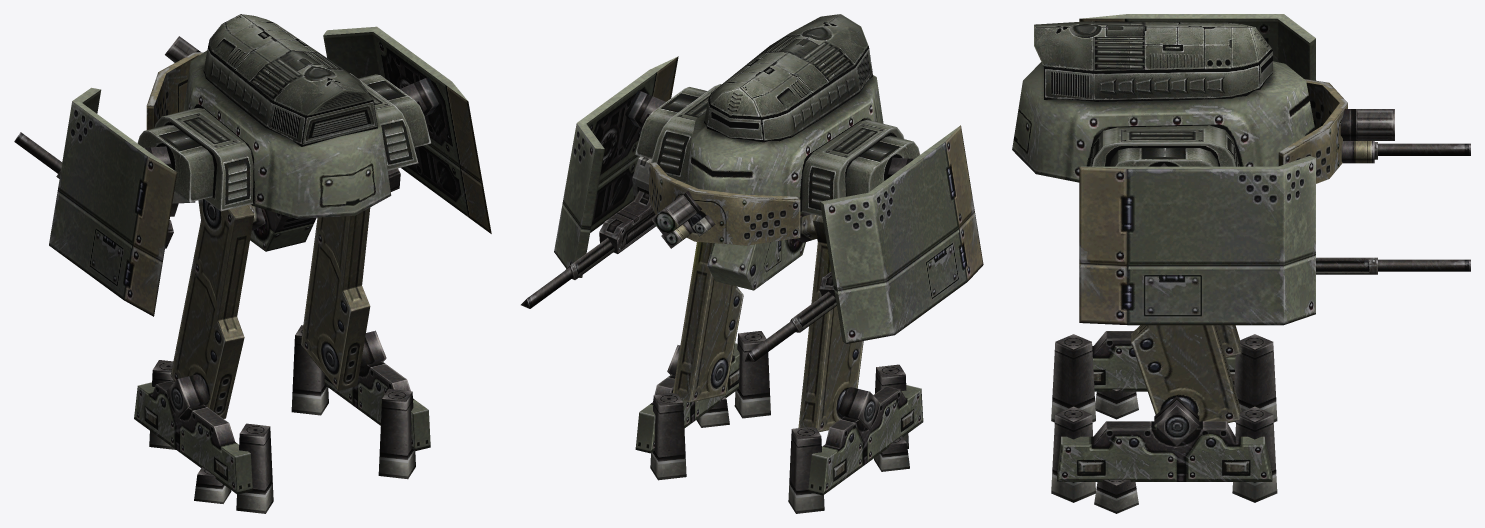
File: cameleerT1.glb
The picture shows the model from 3 angles, left to right: view 1: azimuth 30°, elevation 25°; view 2: azimuth 150°, elevation 25°; view 3: azimuth 270°, elevation 25°; orthographic projection. The views are drawn at different scales.
Parts seen in each view (by area): view 1: Spine, Box03, L Foot, L Calf, R Calf, R Foot, Pelvis; view 2: Spine, Box03, L Foot, R Foot, R Calf, L Calf, Pelvis; view 3: Spine, Box03, R Foot, L Foot, R Calf, L Calf.
Part boxes in pixels (x1=…): Spine: x1=14, y1=26, x2=491, y2=316; Box03: x1=137, y1=14, x2=430, y2=211; L Foot: x1=134, y1=360, x2=273, y2=513; L Calf: x1=170, y1=199, x2=254, y2=418; R Calf: x1=301, y1=207, x2=370, y2=390; R Foot: x1=291, y1=325, x2=430, y2=479; Pelvis: x1=250, y1=208, x2=316, y2=251; Spine: x1=521, y1=56, x2=983, y2=361; Box03: x1=635, y1=14, x2=920, y2=216; L Foot: x1=788, y1=364, x2=923, y2=513; R Foot: x1=635, y1=331, x2=770, y2=480; R Calf: x1=673, y1=242, x2=743, y2=402; L Calf: x1=798, y1=215, x2=863, y2=432; Pelvis: x1=707, y1=212, x2=810, y2=290; Spine: x1=1012, y1=14, x2=1470, y2=325; Box03: x1=1034, y1=21, x2=1272, y2=166; R Foot: x1=1051, y1=396, x2=1277, y2=513; L Foot: x1=1051, y1=331, x2=1277, y2=422; R Calf: x1=1131, y1=325, x2=1241, y2=423; L Calf: x1=1216, y1=325, x2=1241, y2=357.
Bounding box in the file's own units: 3.38 × 3.79 × 3.67.
Materials: 2 (2 with a texture image).
